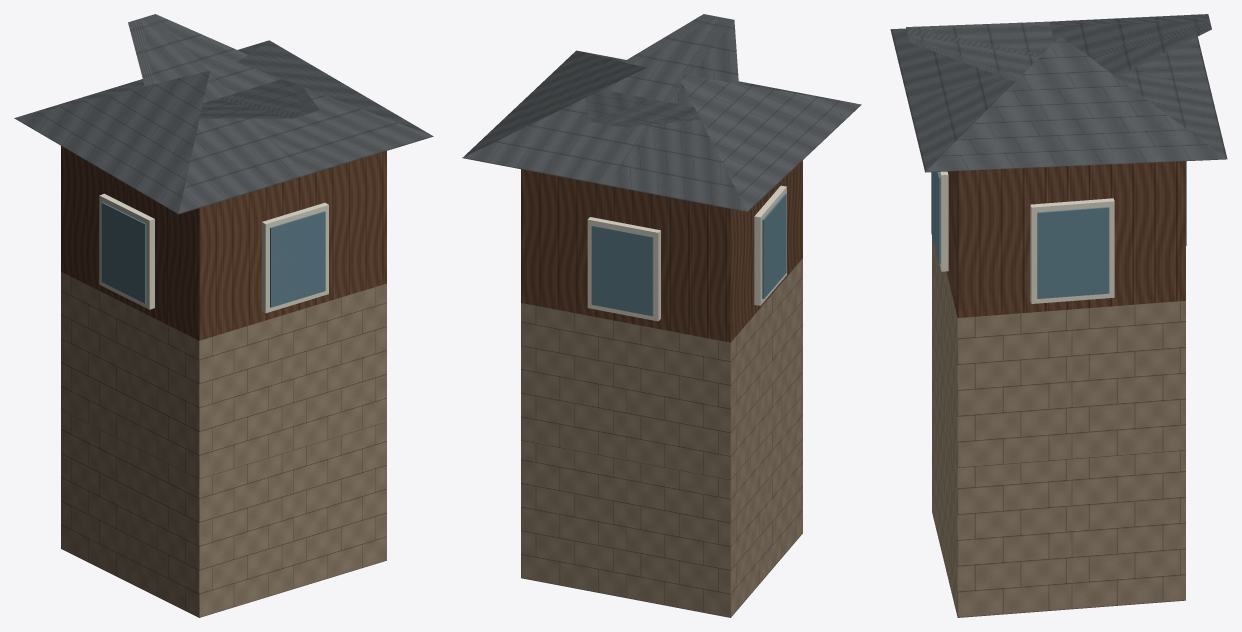
The model's file is core_0038.gltf.
3 views of the same model, side by side, from view 1: azimuth 30°, elevation 25°; view 2: azimuth 150°, elevation 25°; view 3: azimuth 270°, elevation 25° (orthographic). The views are drawn at different scales.
Visible parts, largest first — view 1: core_0038; view 2: core_0038; view 3: core_0038.
Boxes of the visible parts, x1,y1,x2,y2 form: core_0038: (14,14,433,617); core_0038: (462,14,861,617); core_0038: (890,14,1227,617).
Bounding box in the file's own units: 5.08 × 8 × 4.63.
5 materials, 5 textured.
